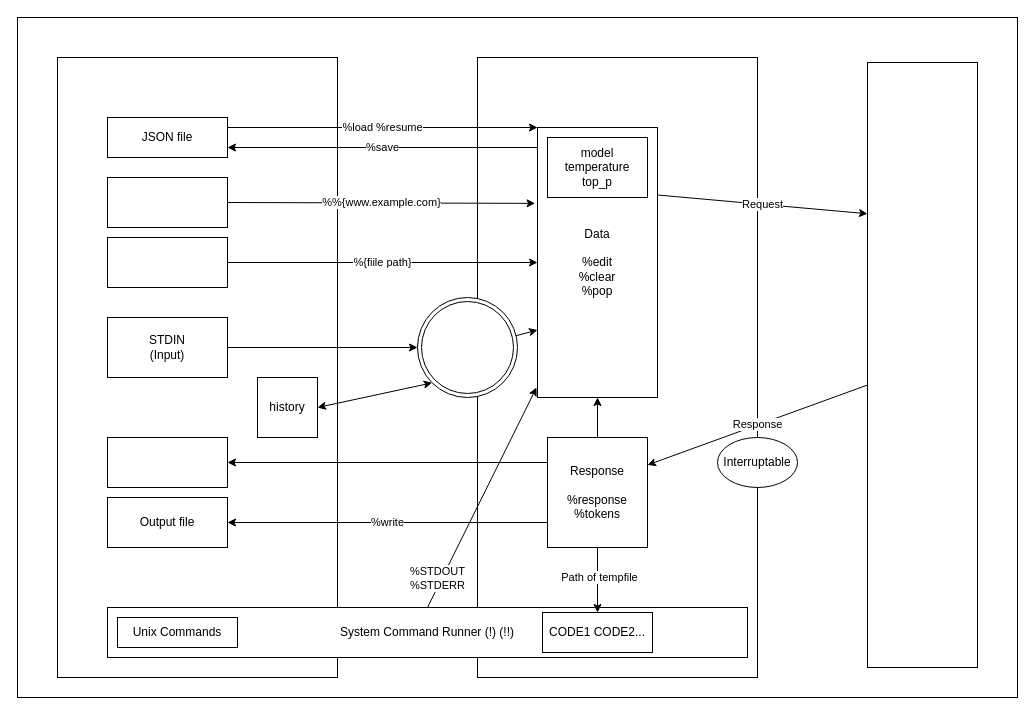
This 1035x715 diagram has some shape labels left out. The centre of each missing label's shape, as x and y in pixels:
"ChatGPT The black box" goes at (x=922, y=365).
"Input file" goes at (x=167, y=262).
"Interactive (Readline) or Batch Mode" goes at (x=467, y=347).
"STDOUT" goes at (x=167, y=462).
"WebPage" goes at (x=167, y=202).
